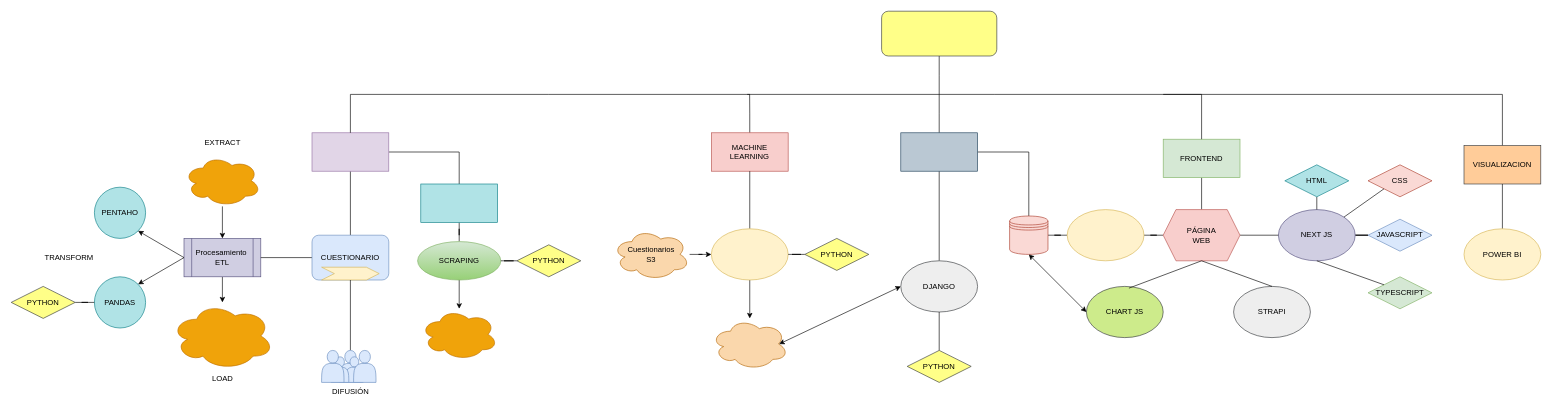
Image size: 1552x413. Some labels were removed from this diagram. Each missing label, with the box of its shape:
AWS S3: (420, 308, 498, 360)
BACKEND: (900, 132, 978, 171)
COLAB: (711, 228, 788, 280)
DATA: (311, 132, 389, 171)
DATALAKE S3: (183, 155, 261, 206)
DATAWAREHOUSE AWS S3: (171, 302, 274, 370)
EXPRESS: (1067, 209, 1144, 261)
FORMS: (321, 267, 379, 280)
INFORMACIÓN WEB: (420, 183, 498, 222)
Modelo entrenado S3: (711, 318, 788, 370)
MongoDB: (1009, 215, 1048, 254)
ORIENTATECH: (881, 11, 997, 56)
